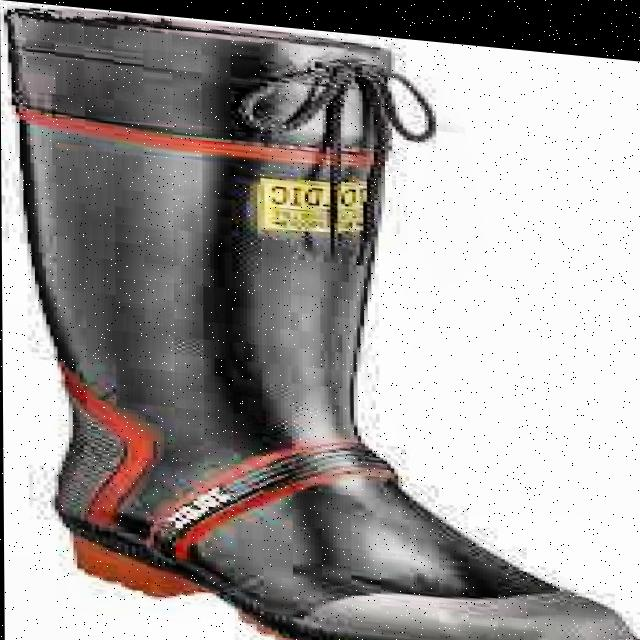shoes: (0, 0, 623, 640)
